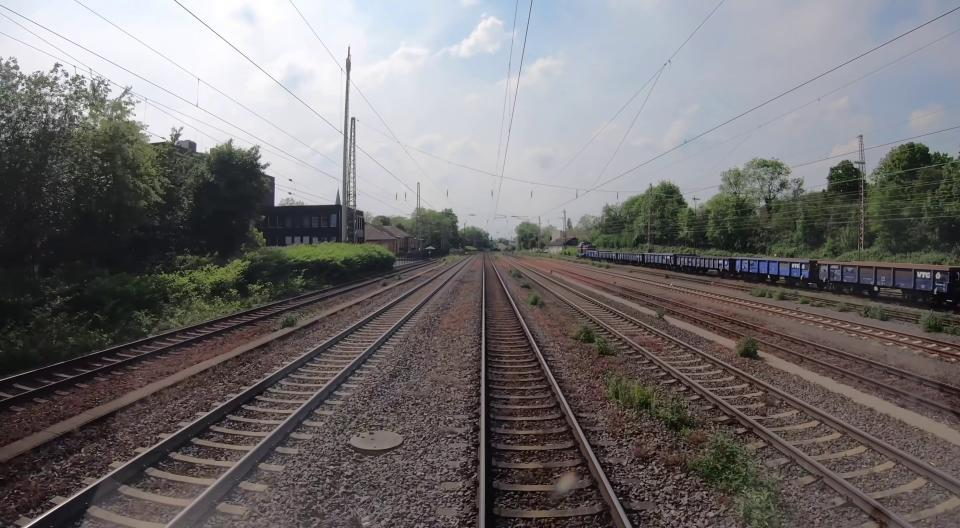Plant: (0, 274, 312, 377), (690, 433, 786, 528), (608, 378, 654, 409), (656, 400, 694, 432), (736, 336, 759, 359), (920, 310, 944, 332), (572, 323, 596, 343), (860, 306, 889, 321), (594, 339, 616, 356), (279, 314, 300, 329), (750, 288, 773, 298), (528, 293, 544, 307), (942, 325, 960, 336), (837, 302, 849, 312), (775, 291, 788, 300), (511, 269, 521, 278), (656, 309, 664, 319), (810, 302, 826, 307), (800, 297, 810, 304), (521, 284, 531, 289), (665, 274, 671, 279), (604, 265, 610, 269)
